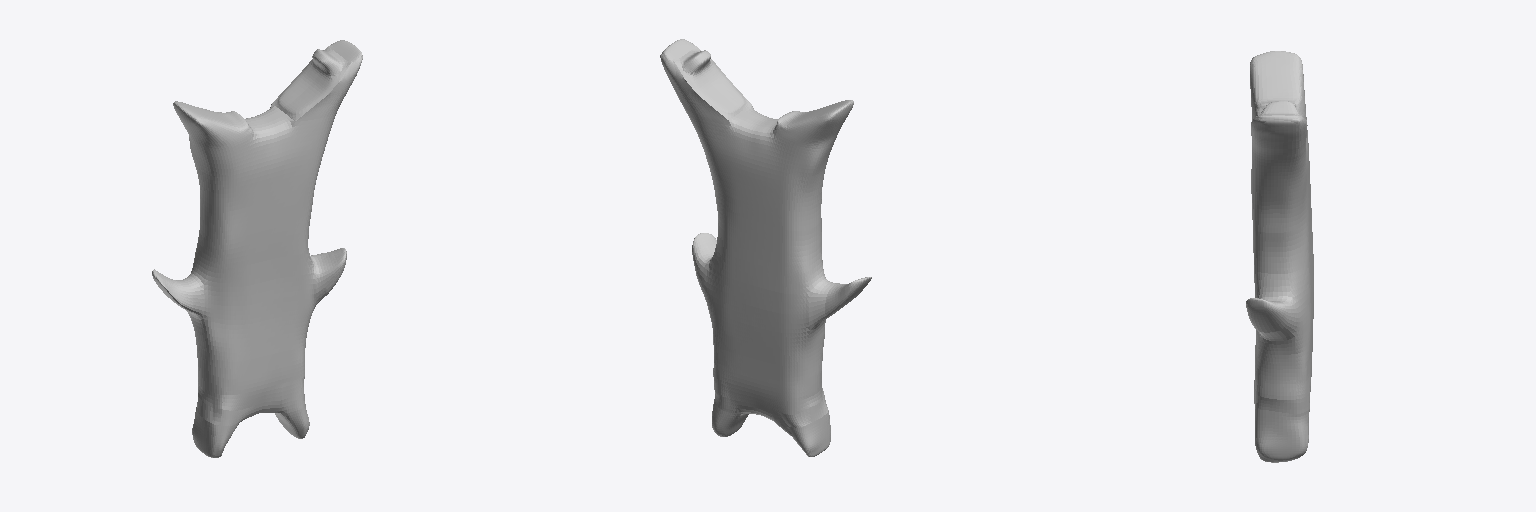
Rendered from korok27.obj.
The picture shows the model from 3 angles: view 1: azimuth 30°, elevation 25°; view 2: azimuth 150°, elevation 25°; view 3: azimuth 270°, elevation 25°; orthographic projection.
Visible parts, largest first — view 1: Plane; view 2: Plane; view 3: Plane.
Boxes of the visible parts, x1=… form: Plane: x1=152, y1=40, x2=362, y2=457; Plane: x1=660, y1=39, x2=871, y2=456; Plane: x1=1246, y1=51, x2=1313, y2=462.
Bounding box in the file's own units: 1.01 × 1.82 × 0.3003.